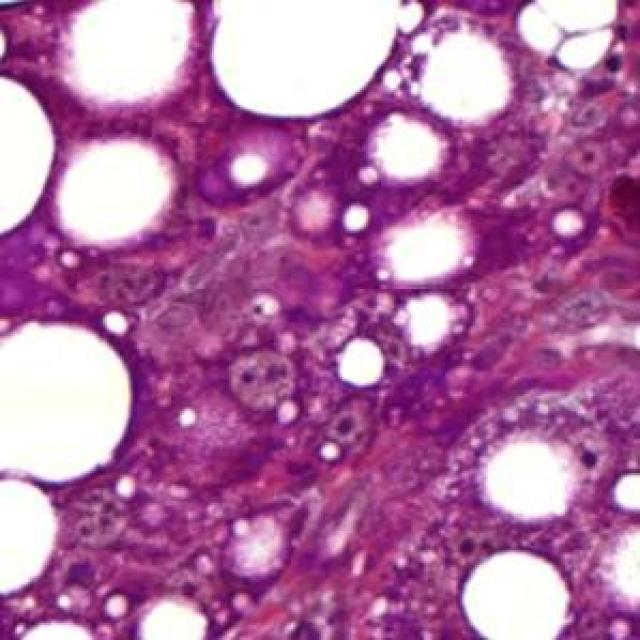steatosis: (53, 131, 180, 244), (454, 539, 569, 623), (332, 332, 387, 392)
